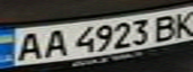2: (112, 19, 136, 51)
3: (127, 16, 157, 46)
4: (72, 24, 96, 55)
9: (93, 21, 118, 53)
A: (9, 29, 48, 62), (39, 27, 72, 58)
B: (148, 11, 184, 42)
K: (169, 8, 193, 38)
